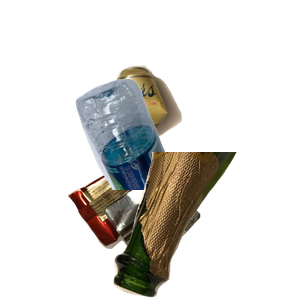glass: (111, 152, 300, 300)
metal: (105, 63, 300, 192)
plastic: (73, 76, 300, 256)
trash: (65, 148, 258, 300)
